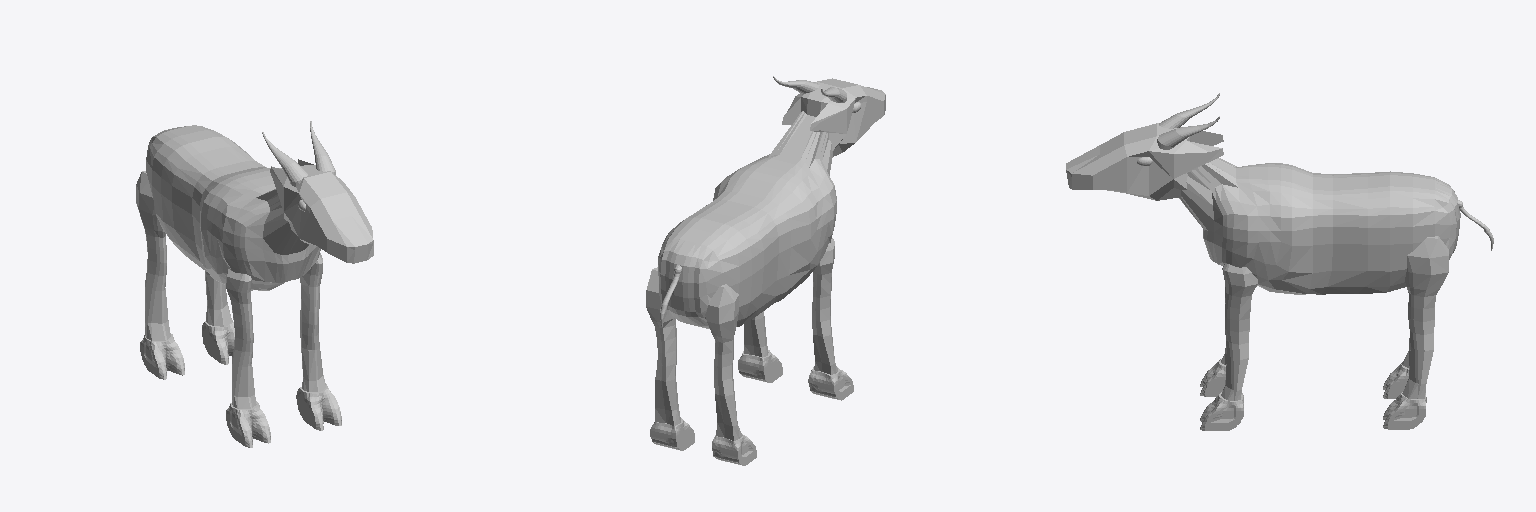
File: goat_easter_egg.obj
The picture shows the model from 3 angles: view 1: azimuth 30°, elevation 25°; view 2: azimuth 150°, elevation 25°; view 3: azimuth 270°, elevation 25°; orthographic projection.
Visible parts, largest first — view 1: pCube1, polySurface3, pCube5, polySurface5 polySurface8, polySurface5 polySurface9, polySurface5 polySurface7, polySurface6 polySurface5, pCylinder3; view 2: pCube1, polySurface3, pCube5, polySurface5 polySurface8, polySurface6 polySurface5, polySurface5 polySurface9, polySurface5 polySurface7; view 3: pCube1, pCube5, polySurface3, polySurface6 polySurface5, polySurface5 polySurface7, pCylinder2, polySurface5 polySurface9.
Part boxes in pixels (bbox=[...]): pCube1: bbox=[146, 125, 320, 290]; polySurface3: bbox=[226, 253, 341, 447]; pCube5: bbox=[270, 159, 373, 263]; polySurface5 polySurface8: bbox=[136, 171, 170, 340]; polySurface5 polySurface9: bbox=[140, 334, 184, 379]; polySurface5 polySurface7: bbox=[202, 320, 234, 364]; polySurface6 polySurface5: bbox=[205, 271, 232, 326]; pCylinder3: bbox=[262, 132, 307, 186]; pCube1: bbox=[658, 111, 836, 328]; polySurface3: bbox=[738, 238, 853, 400]; pCube5: bbox=[782, 78, 885, 156]; polySurface5 polySurface8: bbox=[705, 284, 742, 440]; polySurface6 polySurface5: bbox=[646, 267, 680, 425]; polySurface5 polySurface9: bbox=[712, 434, 756, 465]; polySurface5 polySurface7: bbox=[650, 418, 694, 450]; pCube1: bbox=[1179, 158, 1460, 294]; pCube5: bbox=[1066, 123, 1223, 200]; polySurface3: bbox=[1200, 264, 1257, 430]; polySurface6 polySurface5: bbox=[1402, 236, 1448, 398]; polySurface5 polySurface7: bbox=[1383, 392, 1426, 429]; pCylinder2: bbox=[1157, 116, 1219, 149]; polySurface5 polySurface9: bbox=[1383, 362, 1408, 398].
Bounding box in the file's own units: 3.73 × 10.84 × 13.85.